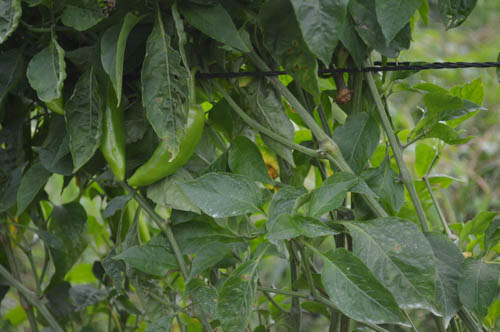ChiliPepper: (126, 108, 209, 193), (89, 70, 128, 184)
